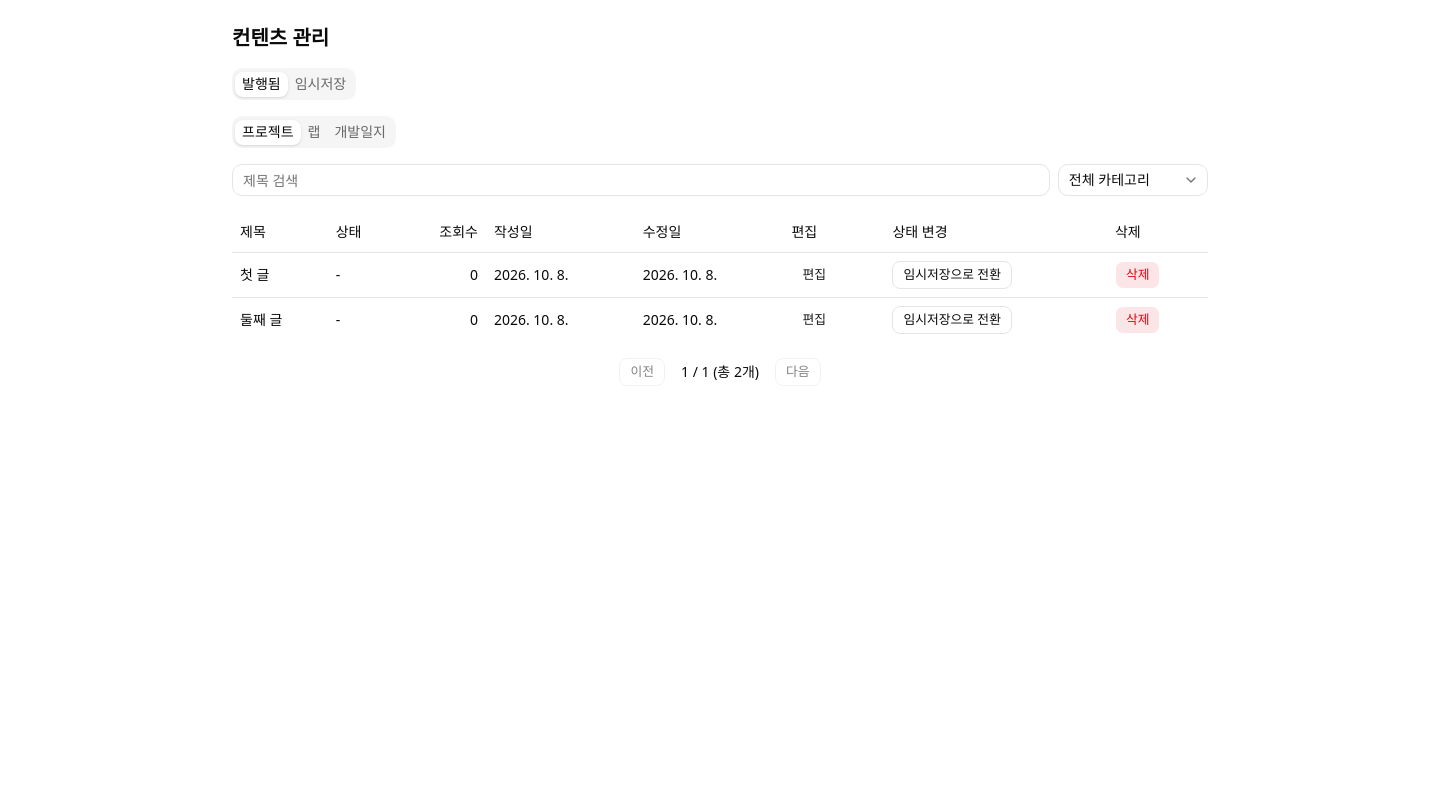
it: PostListPage 글 삭제 › 정상 › 행의 삭제를 누르면 확인 대화상자가 열리고 deletePost와 추가 조회는 일어나지 않아야 한다
The image size is (1440, 810).
Expected: the text "첫 글" is shown, [232,252,328,297]
What coordinates should you click on to do the following:
click the button "삭제" in the row of "첫 글"
I would click on:
 (1138, 274)
Its box is [1115,260,1160,288].
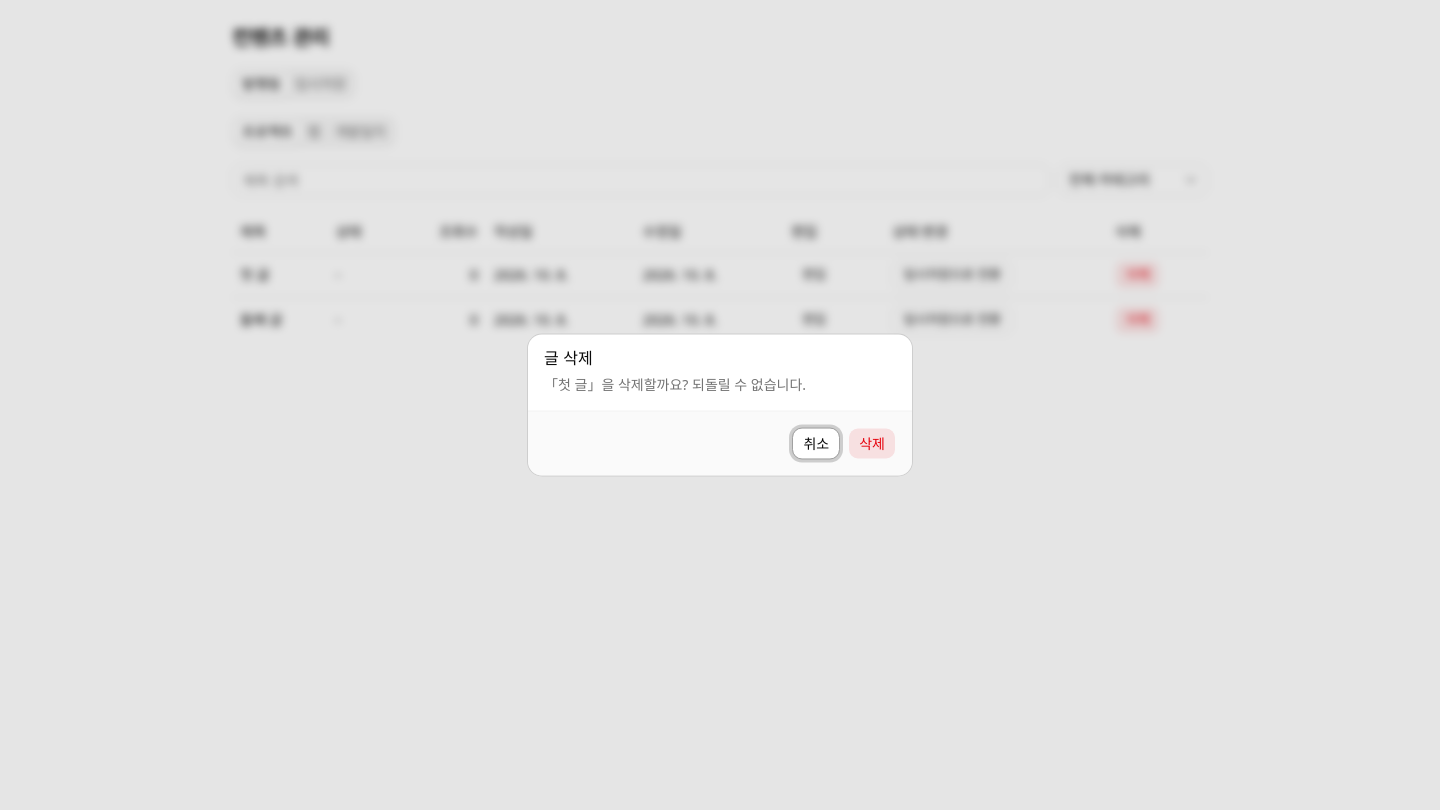
Expected: the text "「첫 글」을 삭제할까요? 되돌릴 수 없습니다." is shown, [544,374,806,394]
